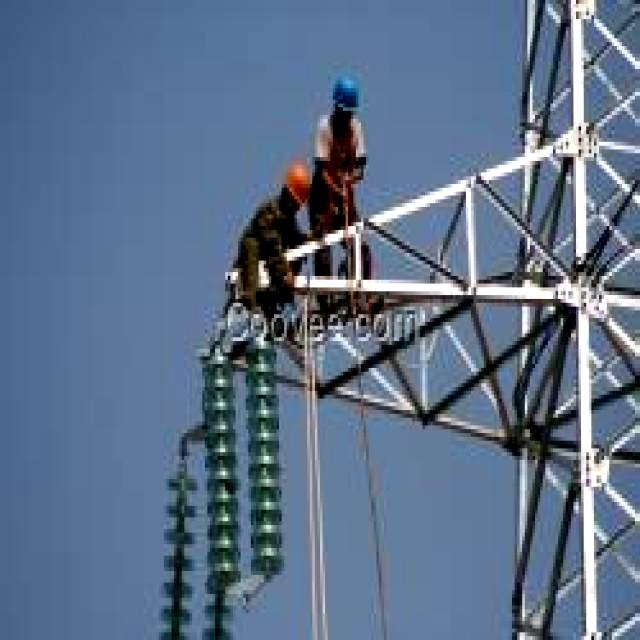hard_hat: (284, 161, 307, 207), (333, 73, 358, 111)
person: (310, 77, 373, 338), (243, 161, 307, 314)
